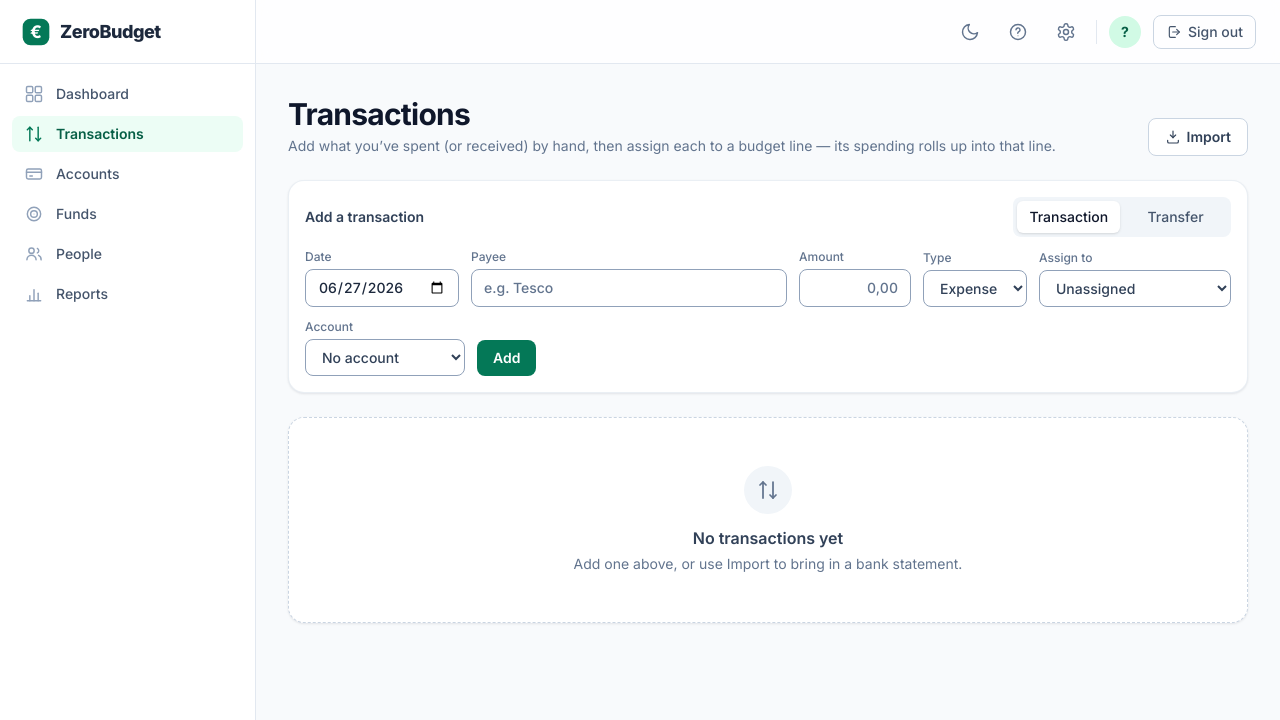
Test case: TransactionsPage manual sheet › records a transfer between two accounts
// The Transaction/Transfer toggle appears once 2+ accounts have loaded.
Click the button "Transfer".
click(1176, 217)  # box [1124, 201, 1227, 233]
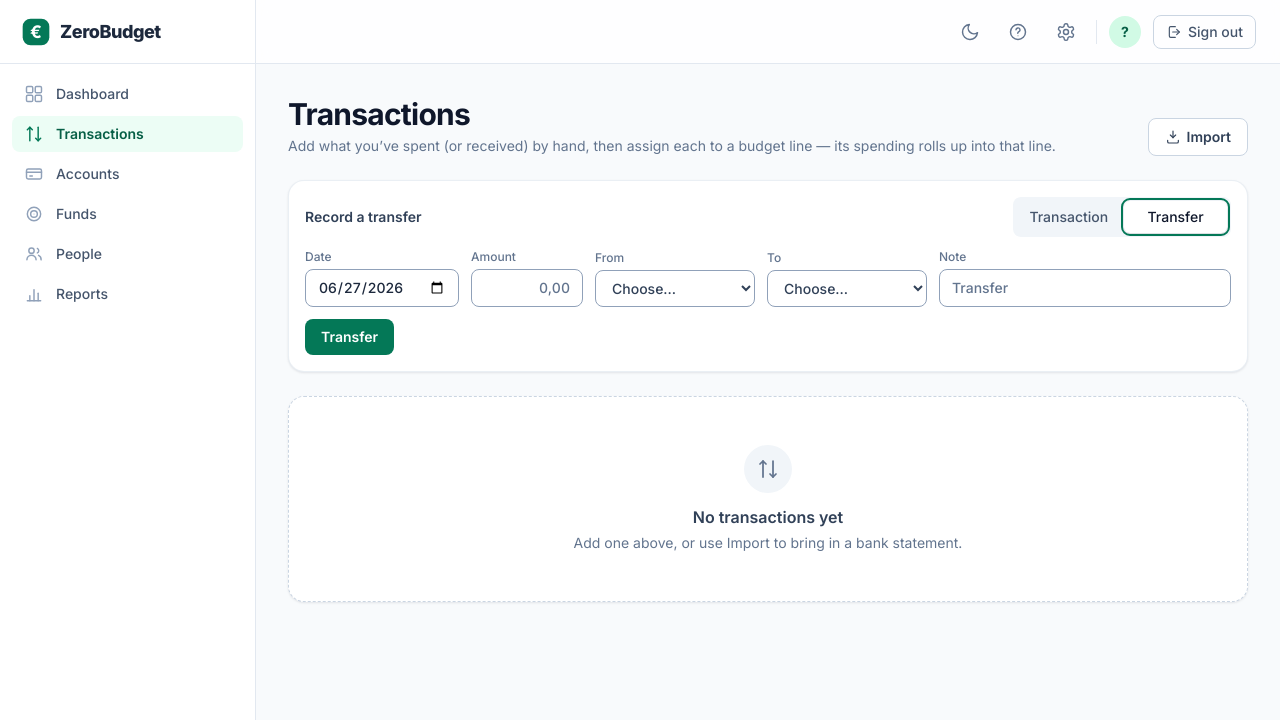
Type "50" into the field named "Transfer amount".
click(527, 288); type("50")  # box [471, 269, 583, 307]
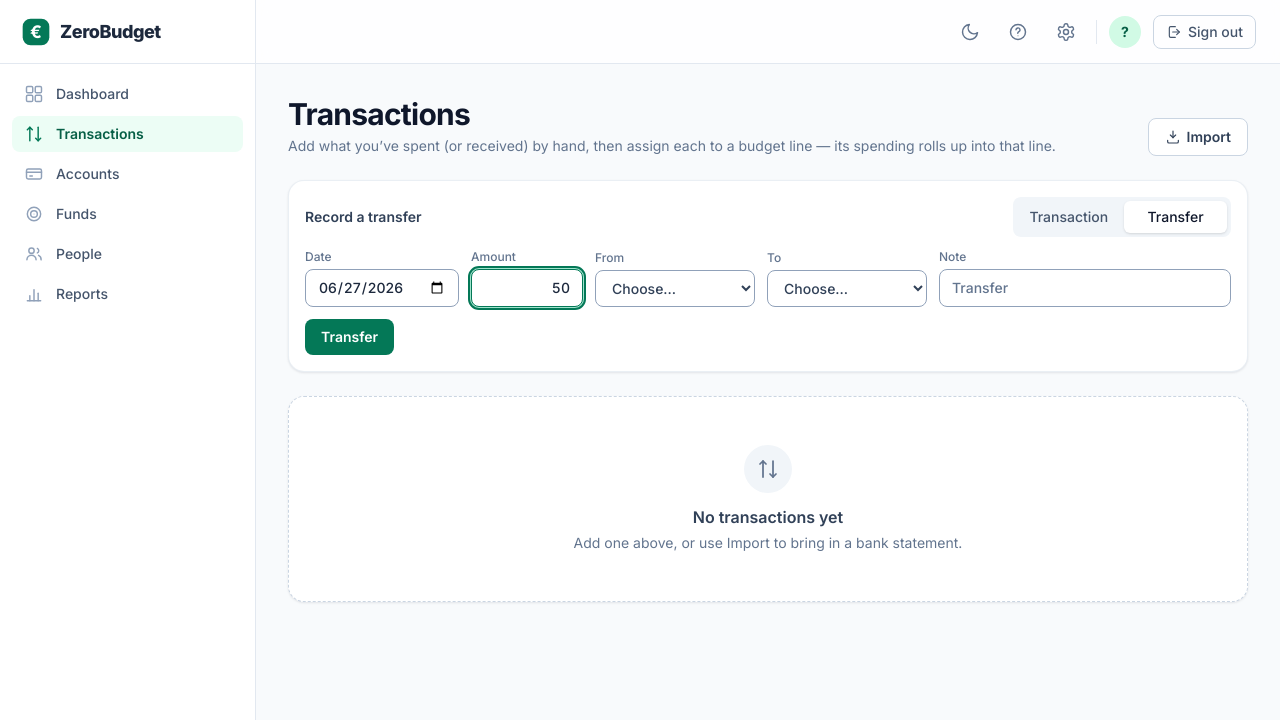
Select "Everyday" in the dropdown named "Transfer from account" at (675, 288), box [595, 270, 755, 307]
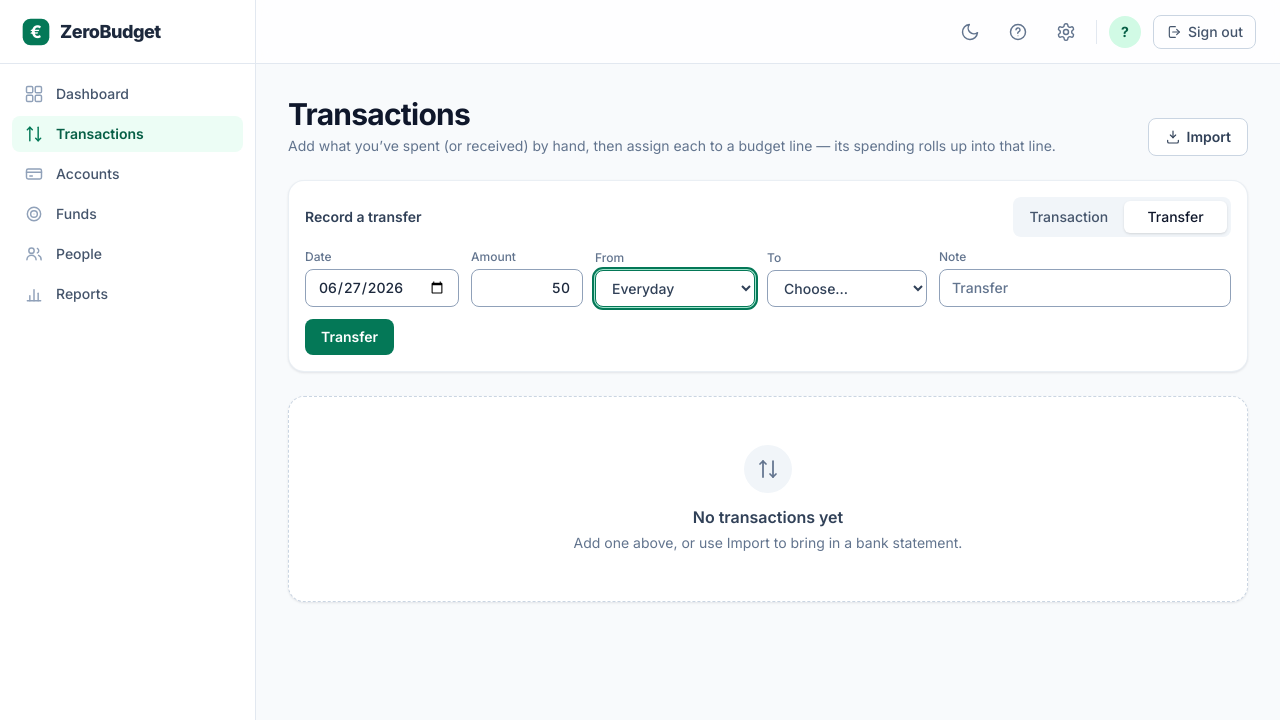
Select "Savings" in the dropdown named "Transfer to account" at (847, 288), box [767, 270, 927, 307]
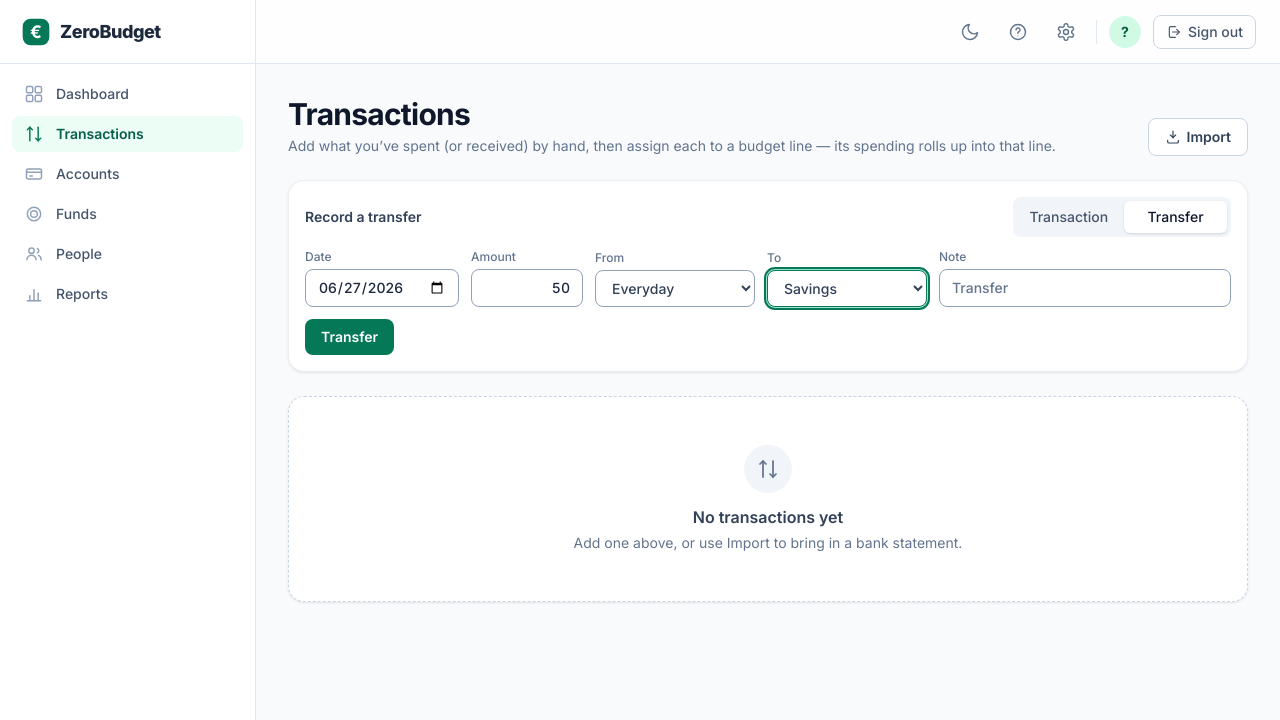
Click the button with aria-label "Record transfer".
click(350, 337)  # box [305, 319, 394, 355]
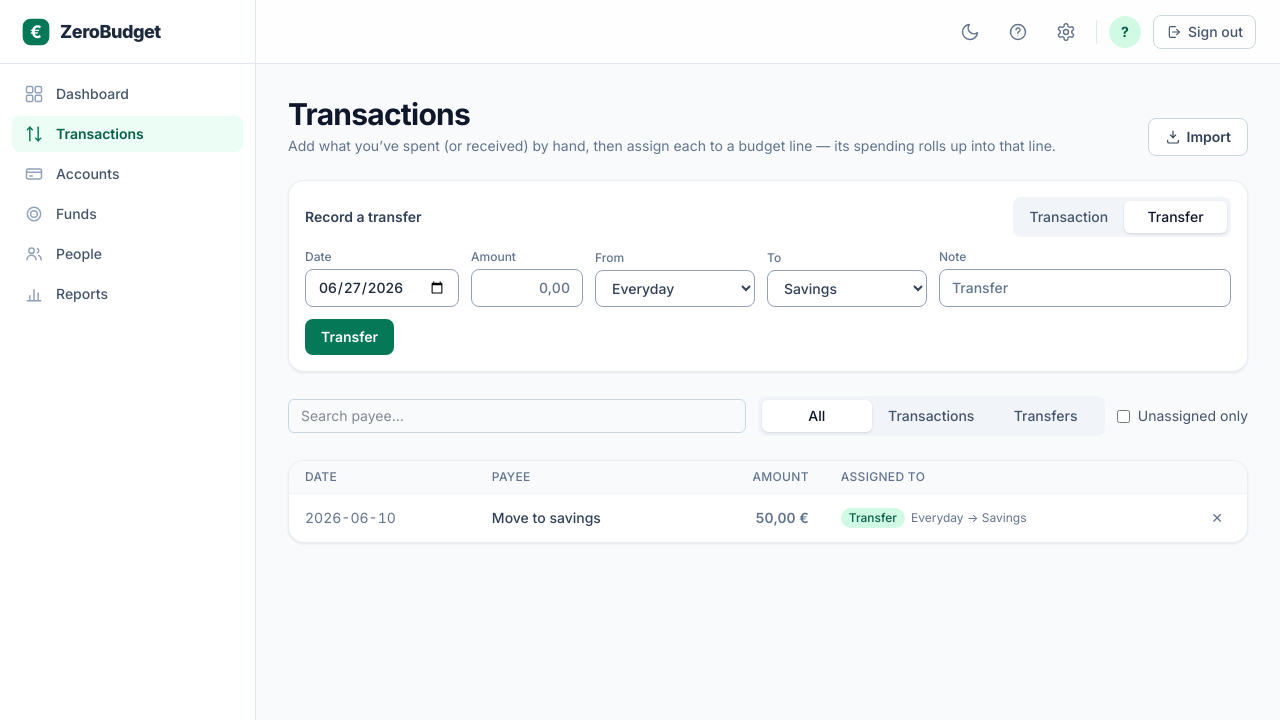
Expected: the text "Move to savings" is shown, [476, 494, 690, 542]
Expected: the text "Transfer" is shown, [841, 508, 905, 528]
